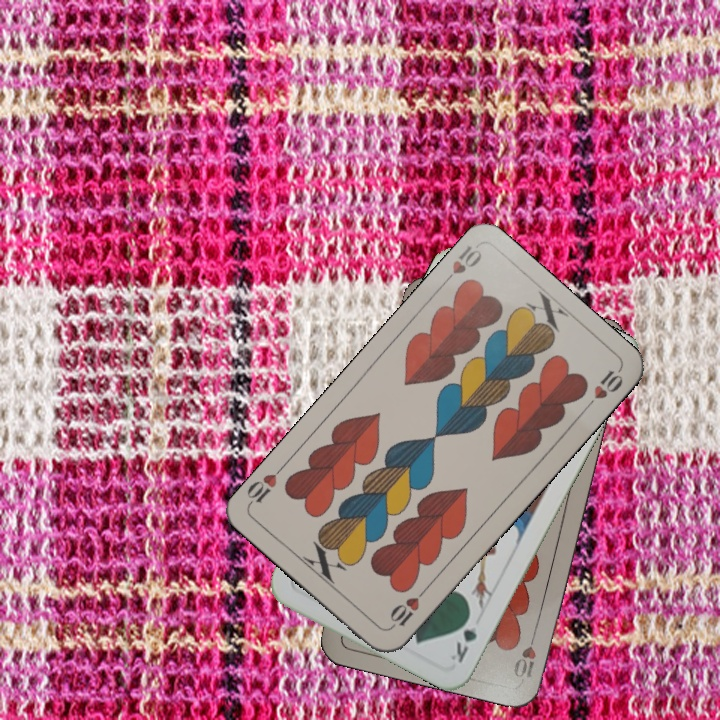GK: (446, 609, 480, 666)
H10: (437, 241, 485, 290), (385, 584, 430, 632), (509, 625, 539, 680)
